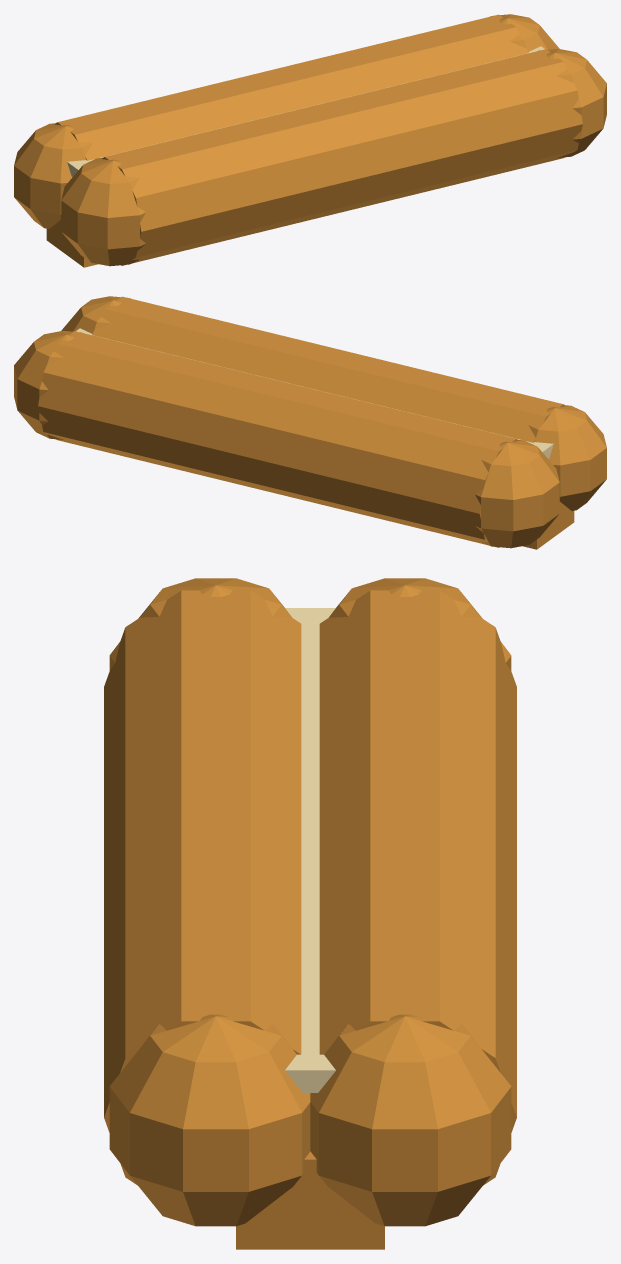
Rendered from hotdog_bun.glb.
The picture shows the model from 3 angles, top to bottom: view 1: azimuth 30°, elevation 25°; view 2: azimuth 150°, elevation 25°; view 3: azimuth 270°, elevation 25°; orthographic projection. The views are drawn at different scales.
Visible parts, largest first — view 1: HotdogBun; view 2: HotdogBun; view 3: HotdogBun.
Part boxes in pixels (x1,y1,x2,y2): HotdogBun: (14,14,606,267); HotdogBun: (14,296,606,549); HotdogBun: (104,578,516,1249).
Size of the model in its own units: 4.91 by 0.93 by 1.66.
